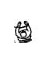Seat: (13, 20, 33, 44)
